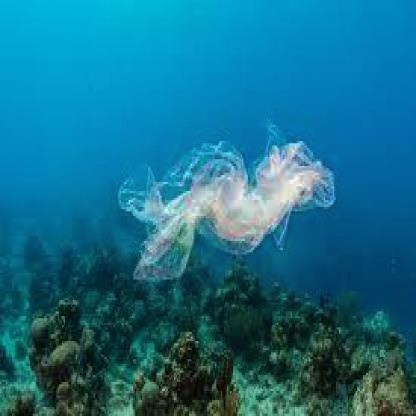pbag: (116, 114, 338, 282)
